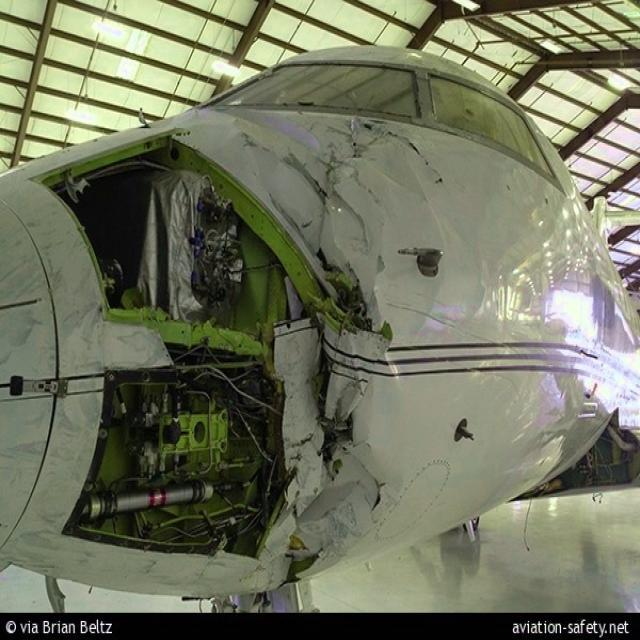crack: (360, 123, 448, 189), (349, 450, 392, 517)
